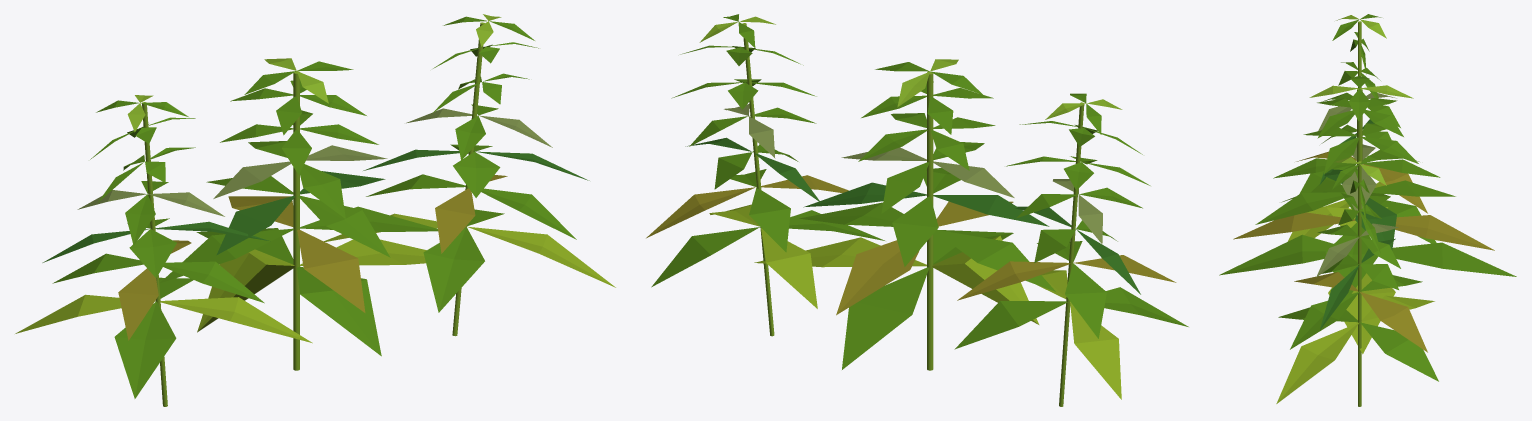
File: tea_plants.dae
The picture shows the model from 3 angles, left to right: view 1: azimuth 30°, elevation 25°; view 2: azimuth 150°, elevation 25°; view 3: azimuth 270°, elevation 25°; orthographic projection. The views are drawn at different scales.
Parts seen in each view (by area): view 1: leaves.006, leaves.034, leaves.005, leaves.013, leaves.004, leaves.033, leaves.012, leaves.003, leaves.032, leaves.011, leaves.031, leaves.002 (+10 smaller); view 2: leaves.006, leaves.005, leaves.034, leaves.013, leaves.004, leaves.033, leaves.012, leaves.003, leaves.002, leaves.032, leaves.031, leaves.011 (+12 smaller); view 3: leaves.006, leaves.013, leaves.005, leaves.012, leaves.004, leaves.003, leaves.011, leaves.002, leaves.010, leaves.033, leaves.001, leaves.034 (+8 smaller).
Boxes of the visible parts, x1=… form: leaves.006: x1=196, y1=228, x2=426, y2=356; leaves.034: x1=15, y1=277, x2=312, y2=398; leaves.005: x1=159, y1=196, x2=438, y2=312; leaves.013: x1=324, y1=209, x2=615, y2=312; leaves.004: x1=206, y1=171, x2=390, y2=257; leaves.033: x1=52, y1=240, x2=264, y2=340; leaves.012: x1=366, y1=174, x2=576, y2=253; leaves.003: x1=213, y1=141, x2=387, y2=218; leaves.032: x1=42, y1=218, x2=270, y2=278; leaves.011: x1=363, y1=144, x2=589, y2=197; leaves.031: x1=77, y1=181, x2=224, y2=245; leaves.002: x1=220, y1=110, x2=378, y2=174; leaves.006: x1=754, y1=230, x2=1039, y2=369; leaves.005: x1=799, y1=201, x2=1055, y2=315; leaves.034: x1=954, y1=270, x2=1188, y2=399; leaves.013: x1=651, y1=204, x2=884, y2=308; leaves.004: x1=803, y1=168, x2=1049, y2=266; leaves.033: x1=957, y1=241, x2=1176, y2=338; leaves.012: x1=646, y1=169, x2=848, y2=252; leaves.003: x1=841, y1=142, x2=1014, y2=213; leaves.002: x1=858, y1=113, x2=995, y2=170; leaves.032: x1=1015, y1=206, x2=1140, y2=294; leaves.031: x1=1016, y1=179, x2=1142, y2=244; leaves.011: x1=685, y1=137, x2=820, y2=202; leaves.006: x1=1219, y1=207, x2=1516, y2=354; leaves.013: x1=1276, y1=295, x2=1438, y2=403; leaves.005: x1=1233, y1=193, x2=1494, y2=294; leaves.012: x1=1290, y1=272, x2=1427, y2=352; leaves.004: x1=1255, y1=169, x2=1455, y2=250; leaves.003: x1=1273, y1=144, x2=1440, y2=215; leaves.011: x1=1319, y1=238, x2=1398, y2=330; leaves.002: x1=1303, y1=123, x2=1418, y2=173; leaves.010: x1=1316, y1=223, x2=1400, y2=277; leaves.033: x1=1296, y1=149, x2=1427, y2=213; leaves.001: x1=1317, y1=98, x2=1403, y2=138; leaves.034: x1=1281, y1=182, x2=1436, y2=243.
Bounding box in the file's own units: 0.8941 × 0.5471 × 0.5209.
